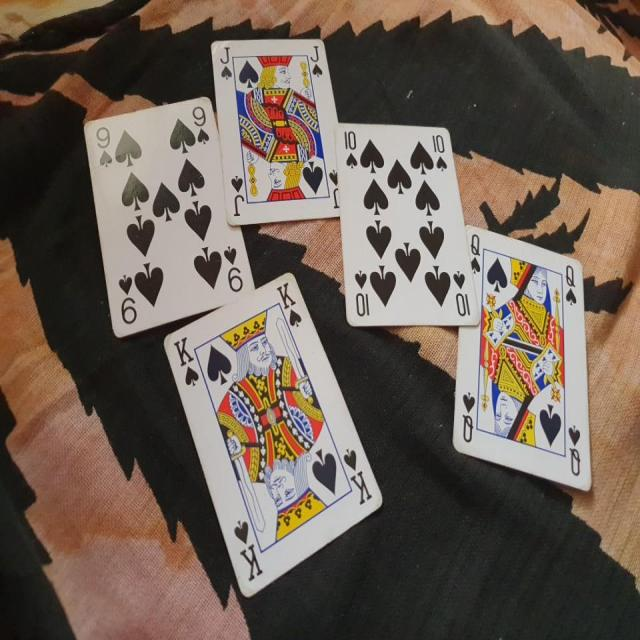10 Spades: (335, 101, 474, 343)
9 Spades: (85, 82, 257, 346)
J Spades: (206, 29, 355, 228)
K Spades: (163, 271, 375, 615)
Q Spades: (452, 220, 602, 507)
